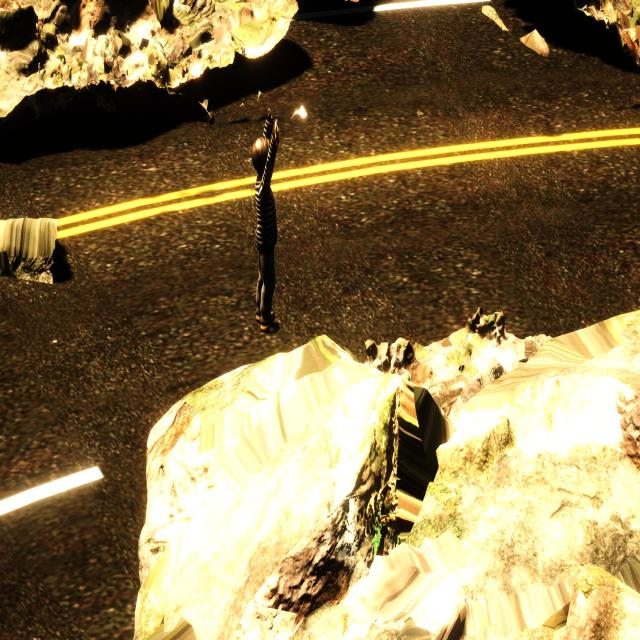Human: (248, 104, 288, 345)
